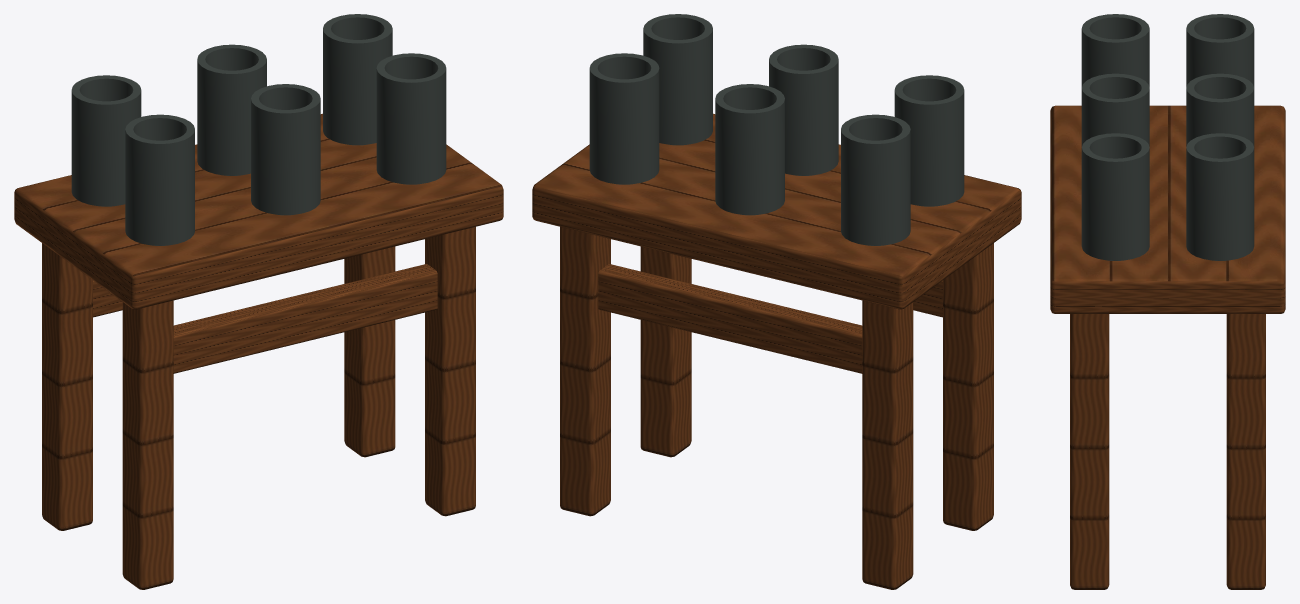
The model's file is survival-greenhouse-and-irrigation-root-training-rack-14da63e3__21315.glb.
3 renders of one model, left to right at view 1: azimuth 30°, elevation 25°; view 2: azimuth 150°, elevation 25°; view 3: azimuth 270°, elevation 25°, orthographic. The views are drawn at different scales.
Visible parts, largest first — view 1: root-training-rack_0, root-training-rack_1; view 2: root-training-rack_0, root-training-rack_1; view 3: root-training-rack_0, root-training-rack_1.
Boxes of the visible parts, x1,y1,x2,y2 form: root-training-rack_0: (14, 113, 503, 589); root-training-rack_1: (71, 14, 446, 245); root-training-rack_0: (532, 113, 1021, 589); root-training-rack_1: (589, 14, 964, 245); root-training-rack_0: (1050, 105, 1285, 589); root-training-rack_1: (1081, 14, 1254, 260).
Bounding box in the file's own units: 0.8 × 0.895 × 0.45.
2 materials, 1 textured.
